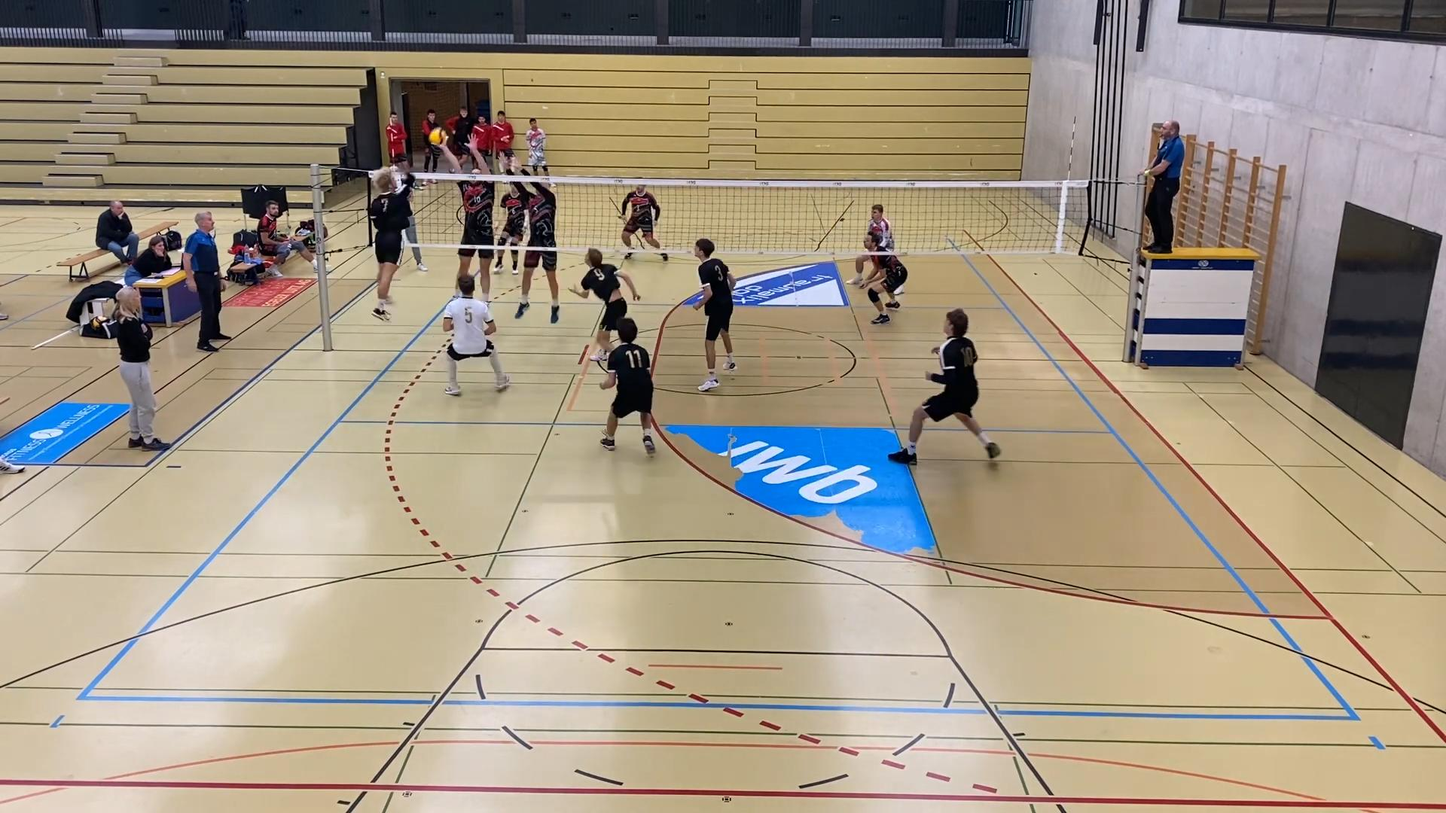attacco: (371, 160, 419, 323)
muro: (431, 139, 495, 312), (505, 156, 570, 326)
